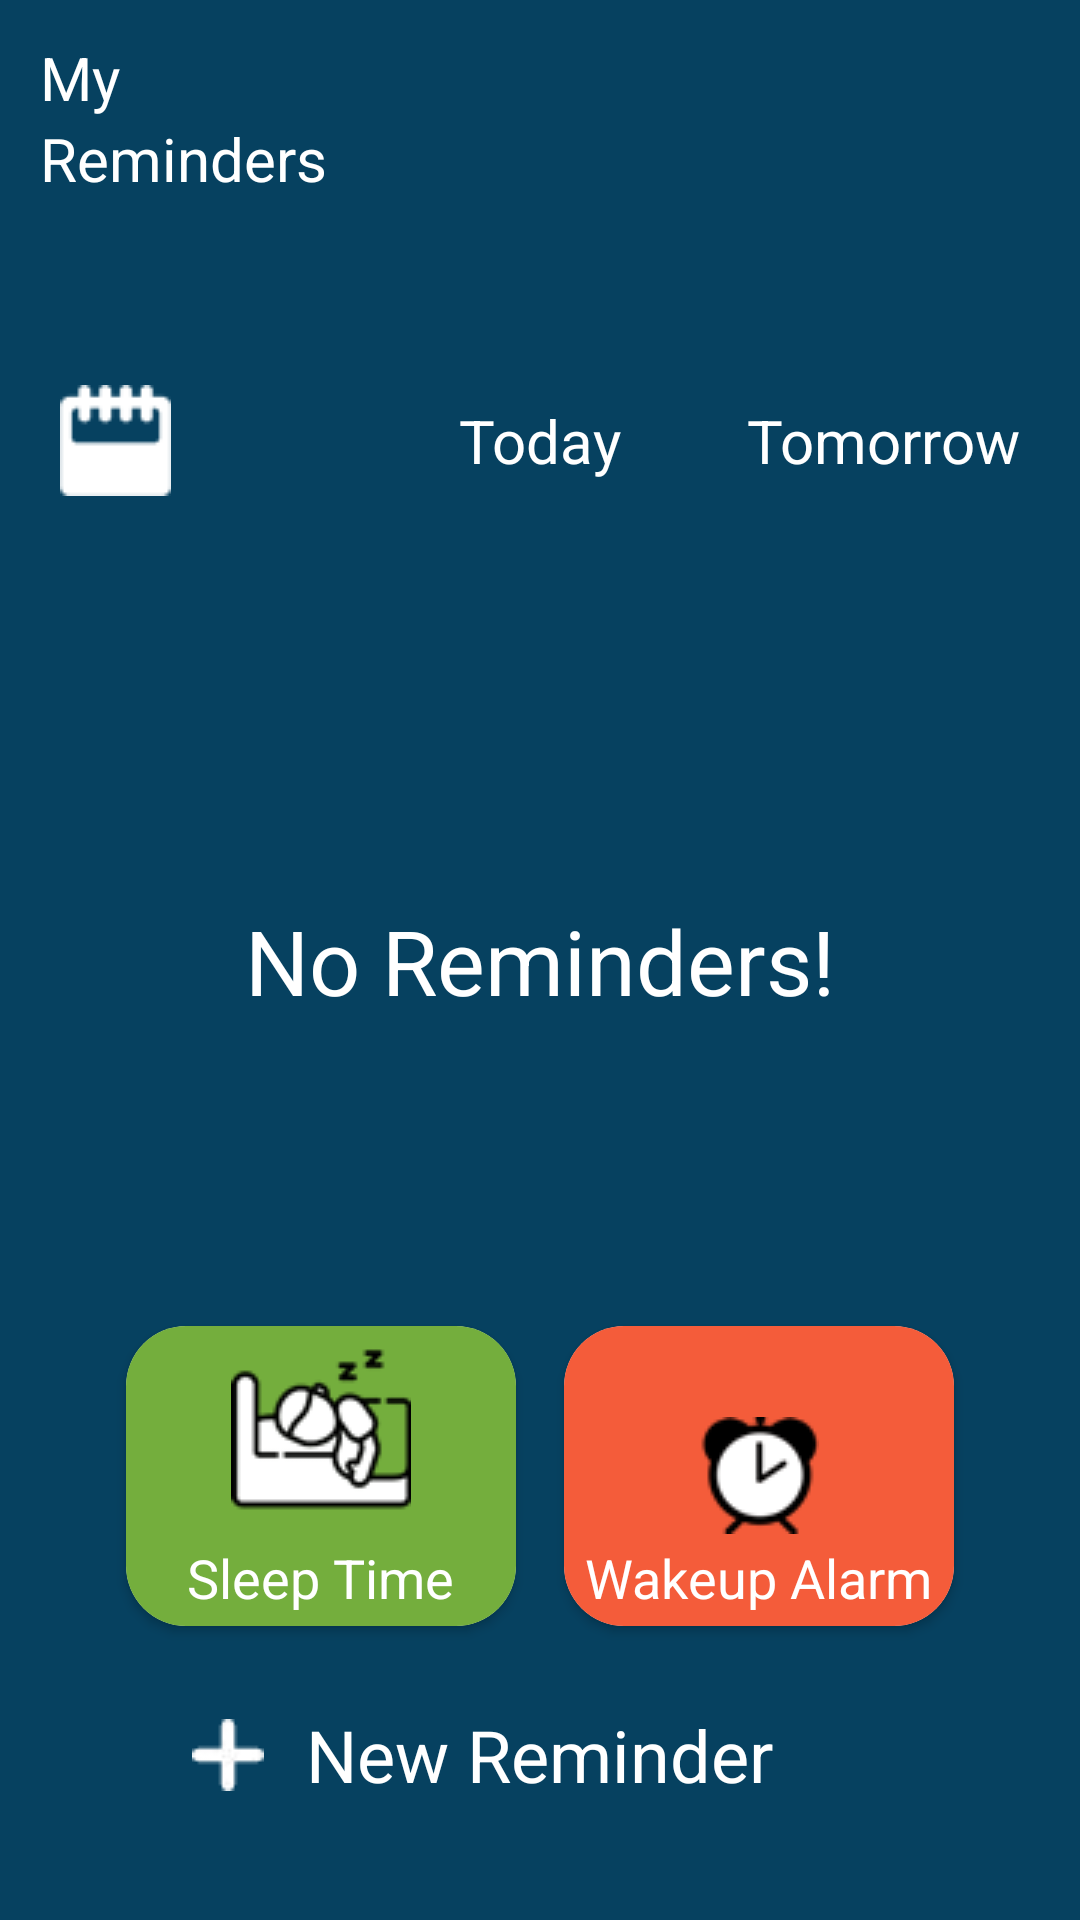

Icons on this 1080px×1920px Android screen, each with its box as {"left": x1, "top": y1, "right": x2, "bottom": y2}:
add: {"left": 192, "top": 1719, "right": 264, "bottom": 1791}
alarm clock: {"left": 701, "top": 1417, "right": 819, "bottom": 1534}
calender: {"left": 60, "top": 385, "right": 171, "bottom": 496}
sleeping: {"left": 231, "top": 1349, "right": 411, "bottom": 1510}
